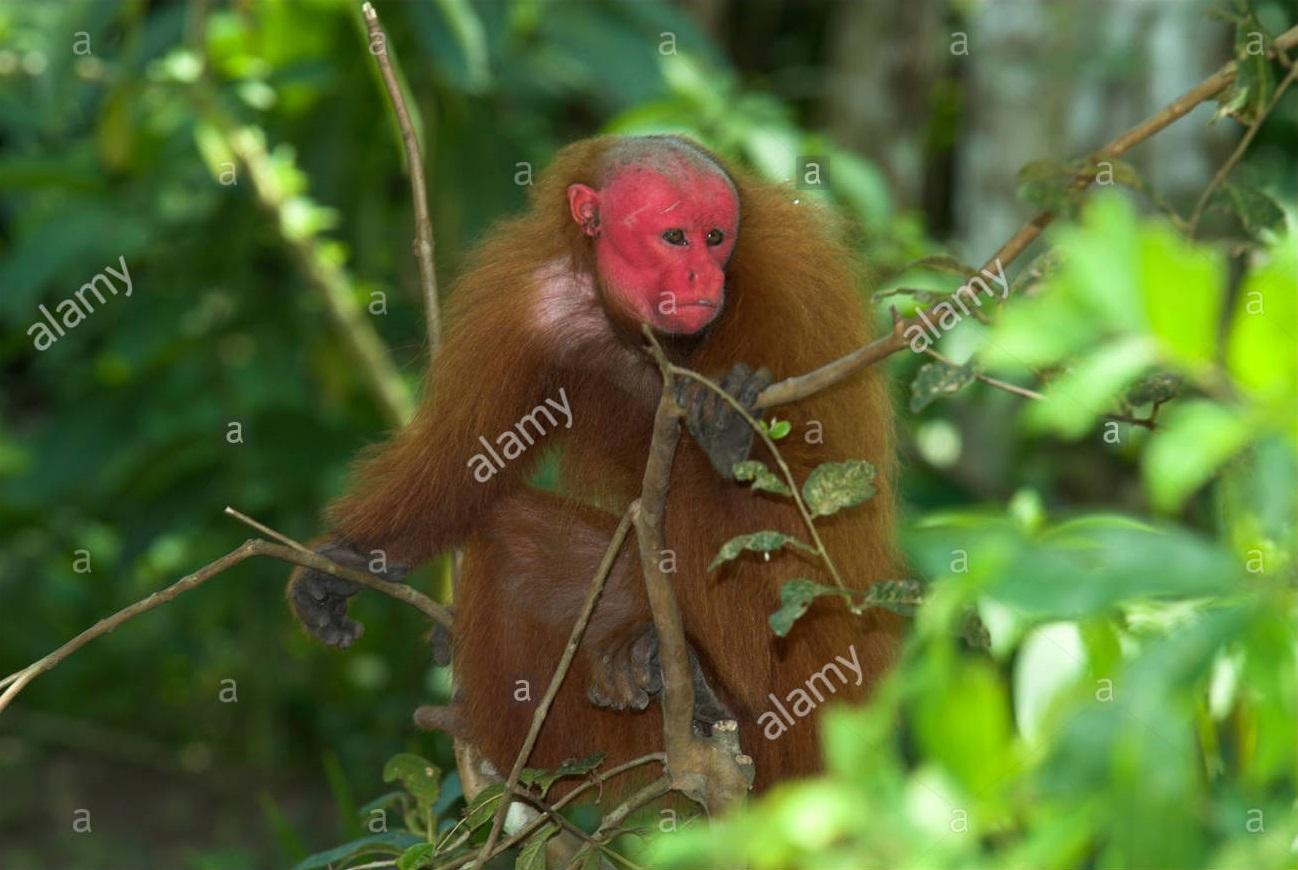monkey: (445, 139, 894, 831)
